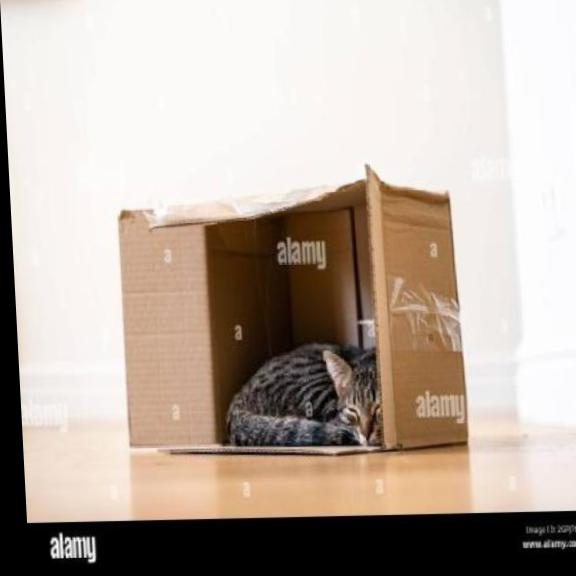Kertas: (119, 166, 468, 453), (311, 446, 325, 453), (304, 406, 310, 411), (302, 448, 305, 452)
